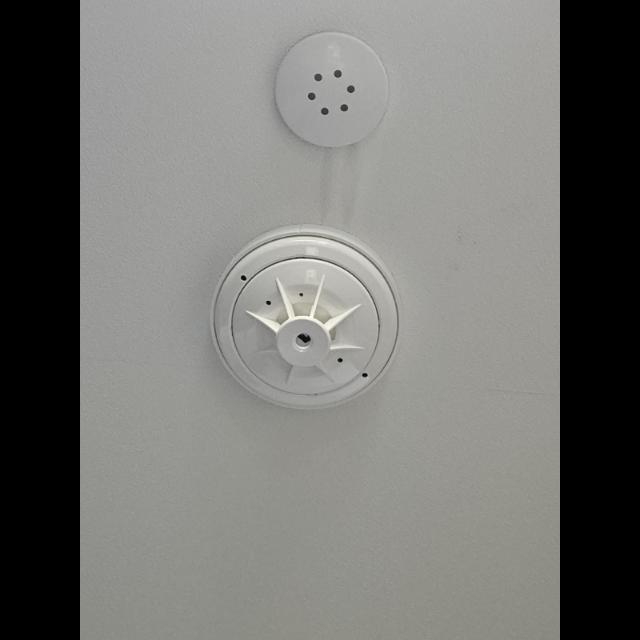Smoke-Detector: (211, 228, 403, 410)
